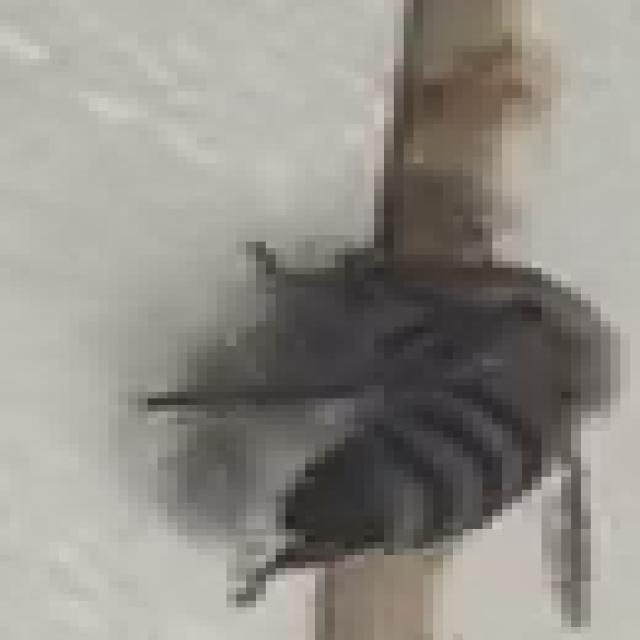honeybee: (210, 261, 612, 567)
